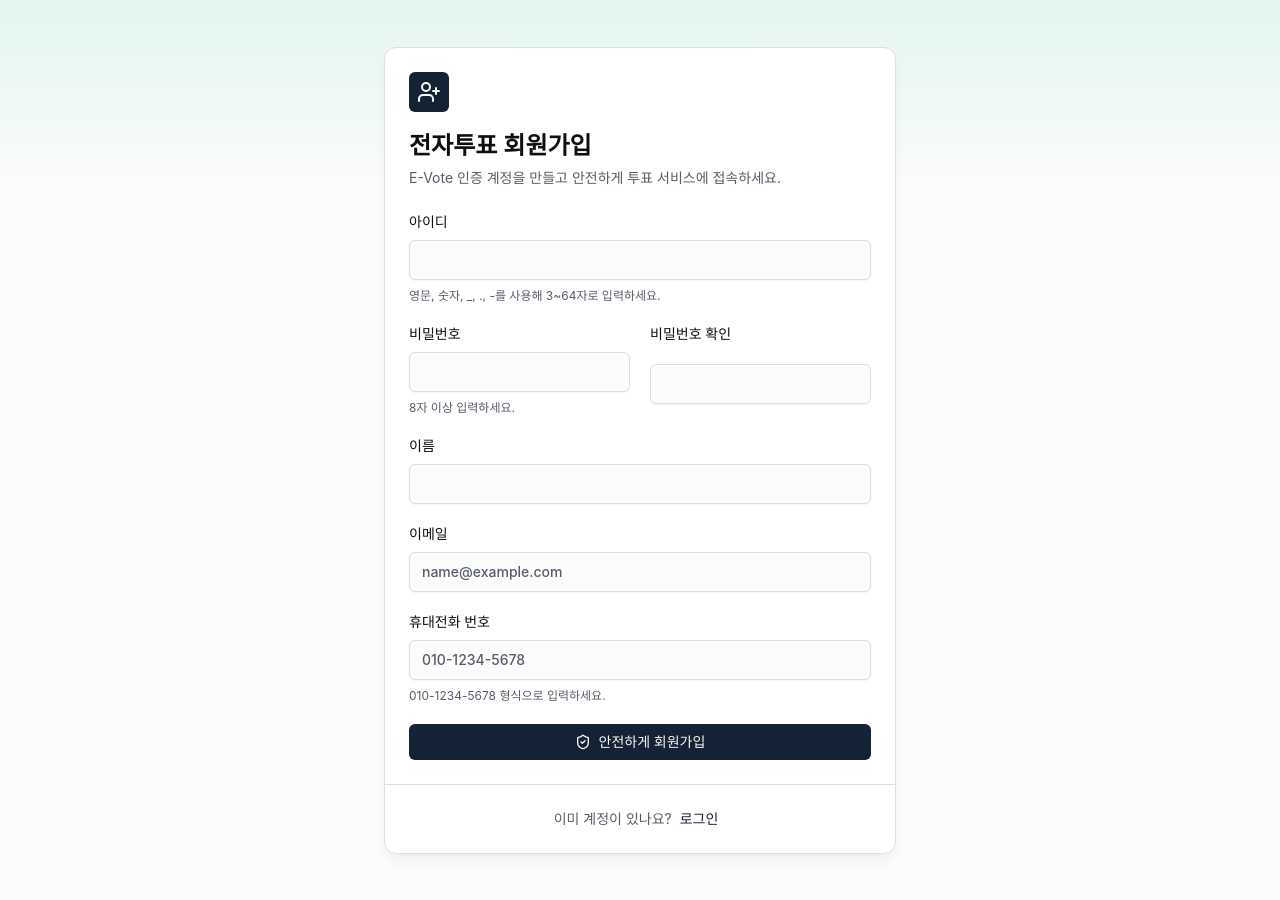
Test case: SignUpContainer › submits the form and shows the completion state
Type "voter01" into the field labelled "아이디" at (640, 260), box [409,240,871,280]
Type "password123" into the password field labelled "비밀번호" at (520, 372), box [409,352,630,392]
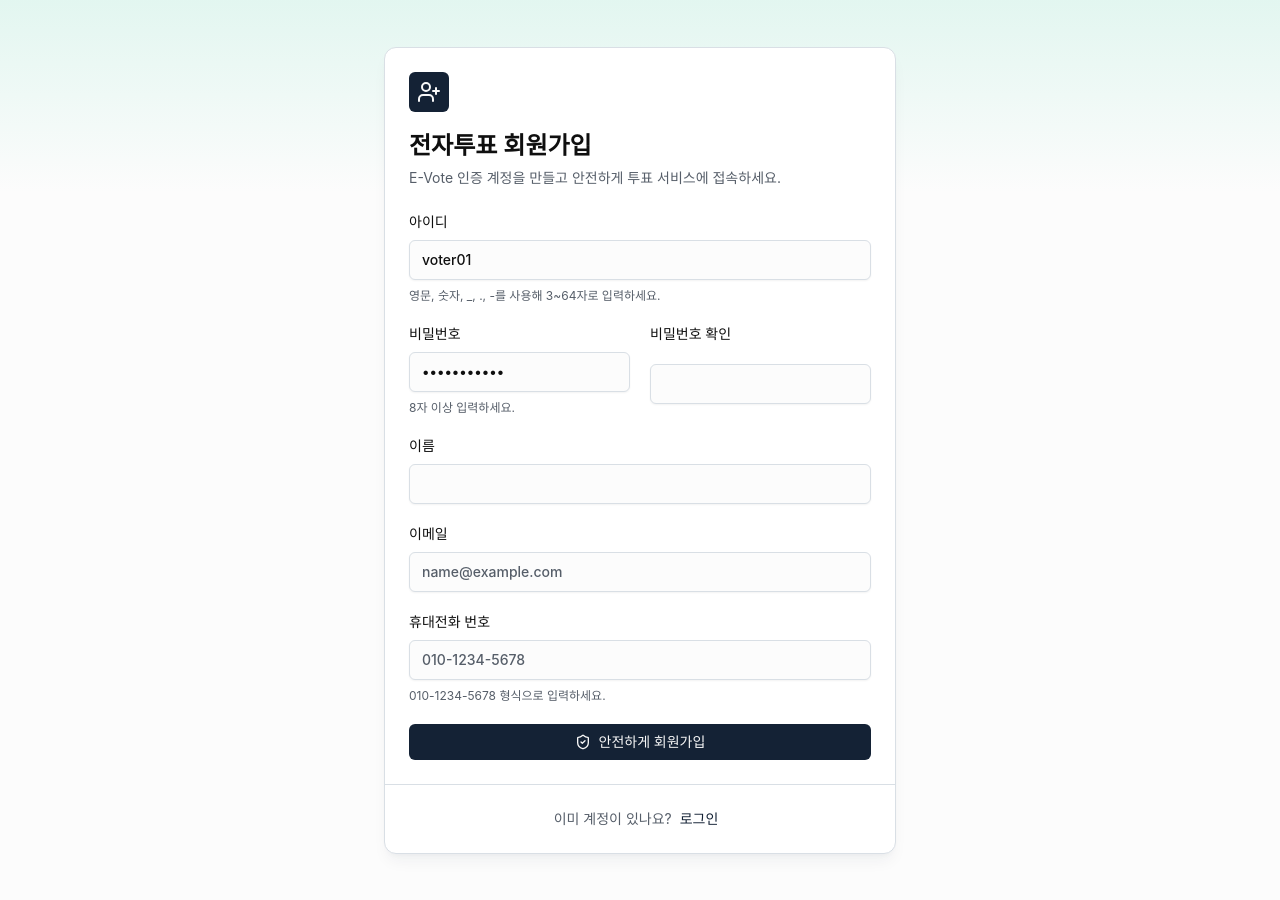
Type "password123" into the password field labelled "비밀번호 확인" at (760, 384), box [650,364,871,404]
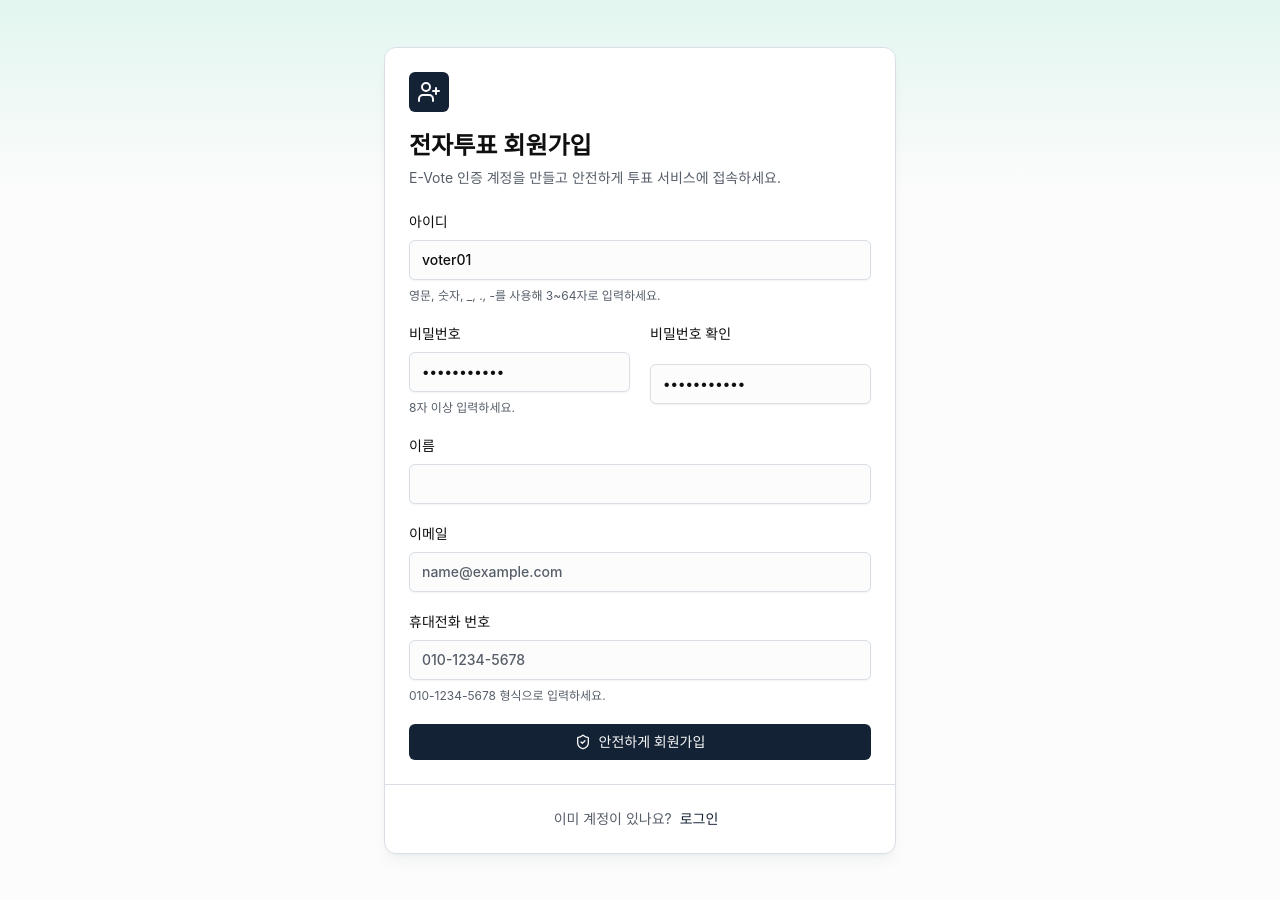
Type "김투표" into the field labelled "이름" at (640, 484), box [409,464,871,504]
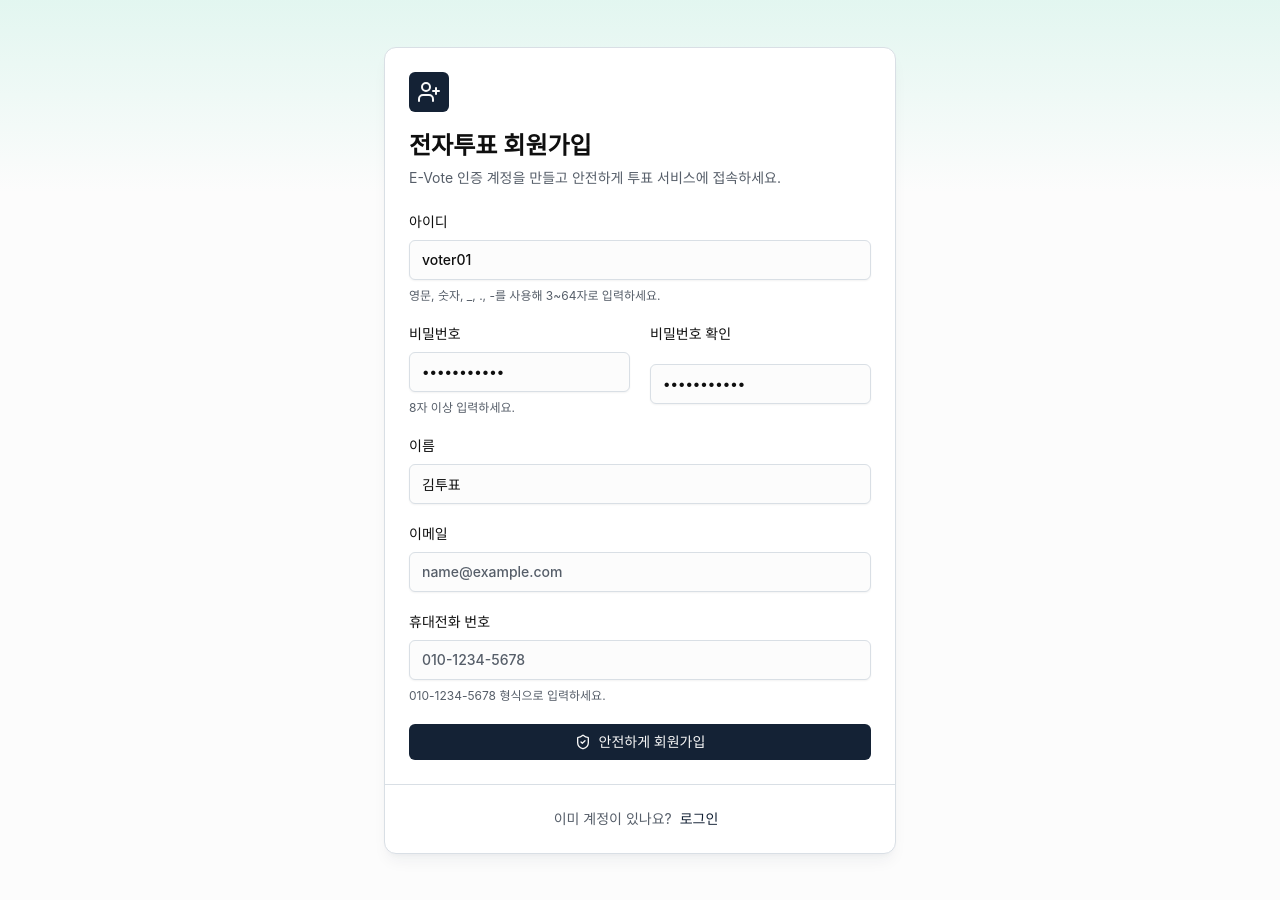
Type "voter@example.com" into the field labelled "이메일" at (640, 572), box [409,552,871,592]
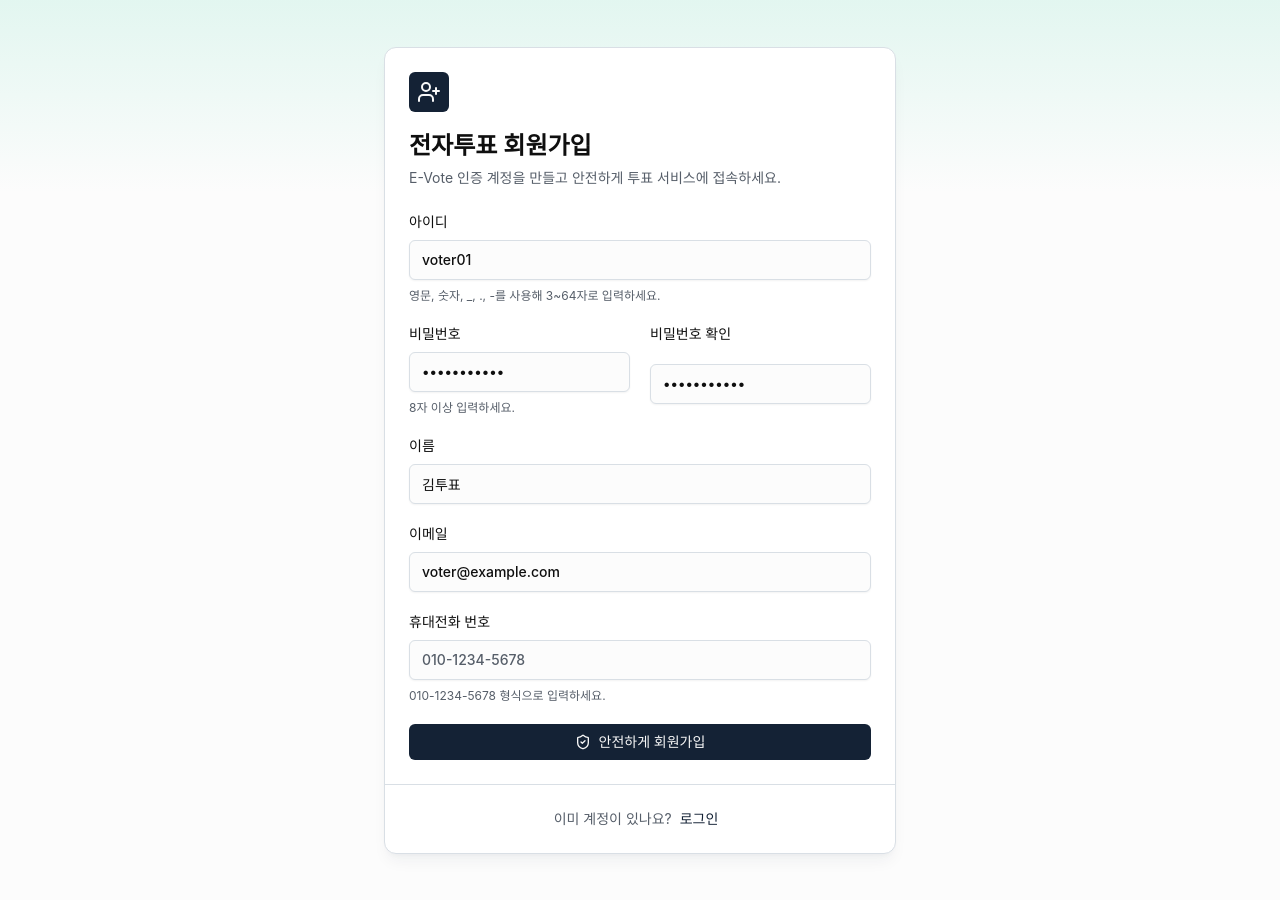
Type "01012345678" into the field labelled "휴대전화 번호" at (640, 660), box [409,640,871,680]
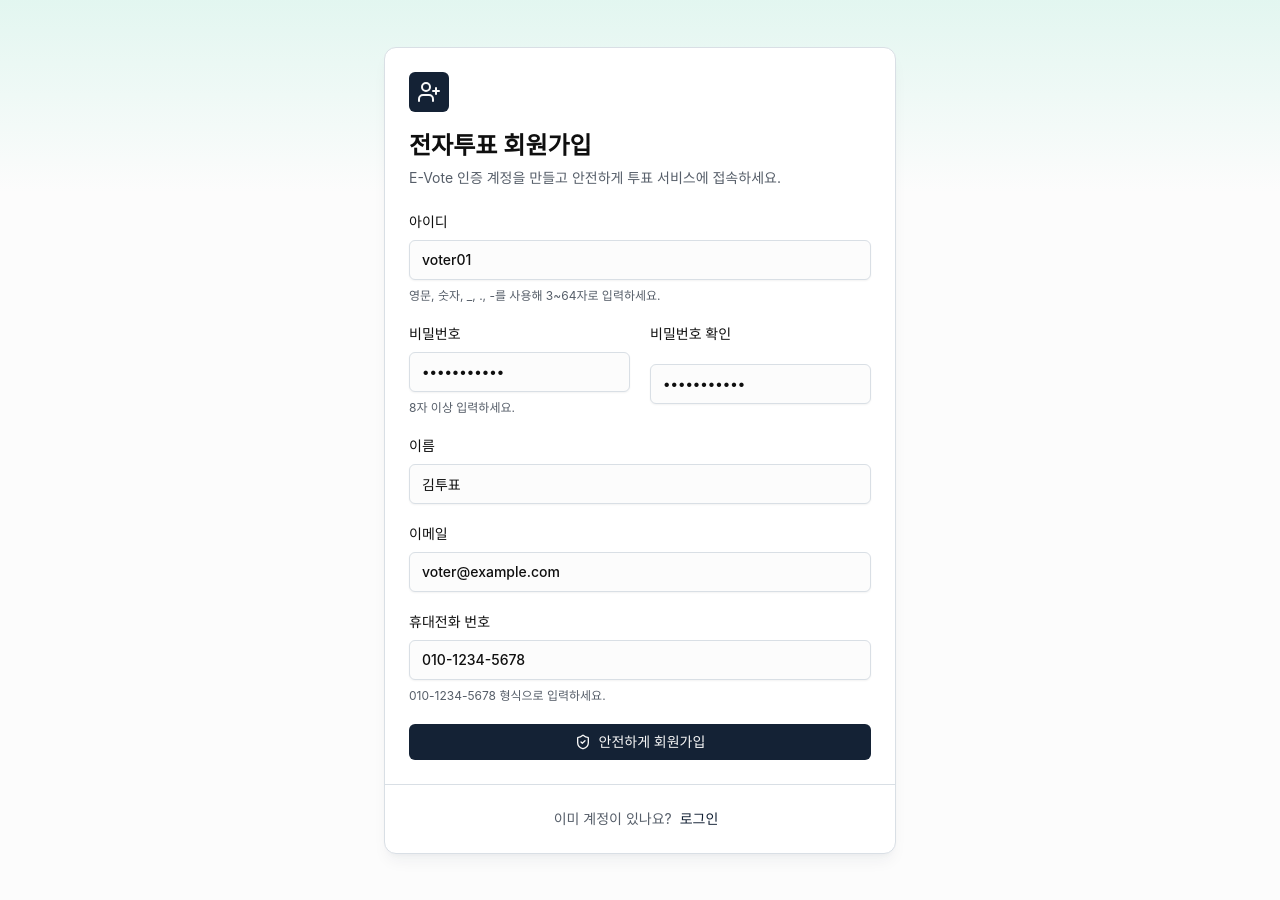
Submit the form named "안전하게 회원가입", box [409,212,871,760]
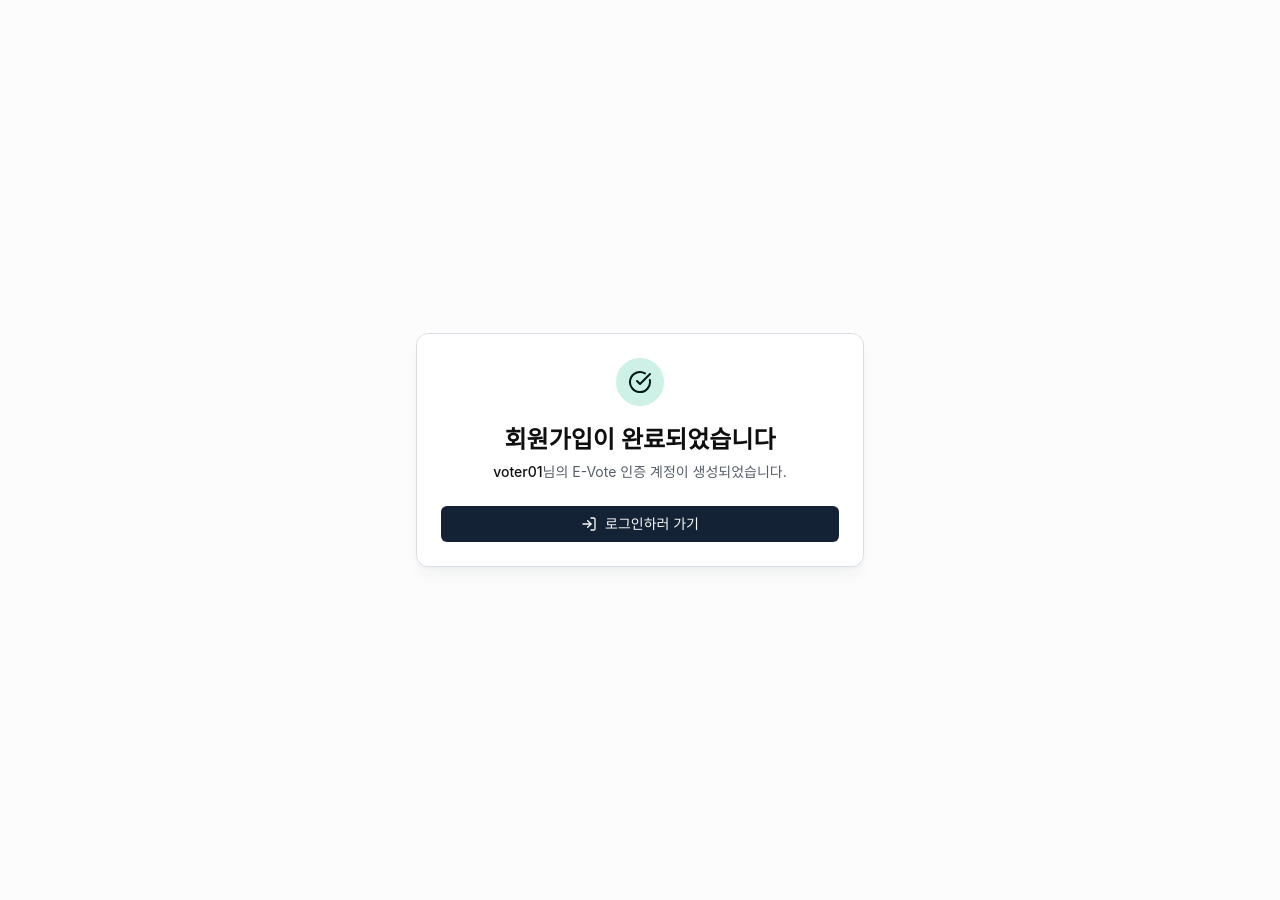
Now the heading "회원가입이 완료되었습니다" is shown, box [504,424,776,456]
